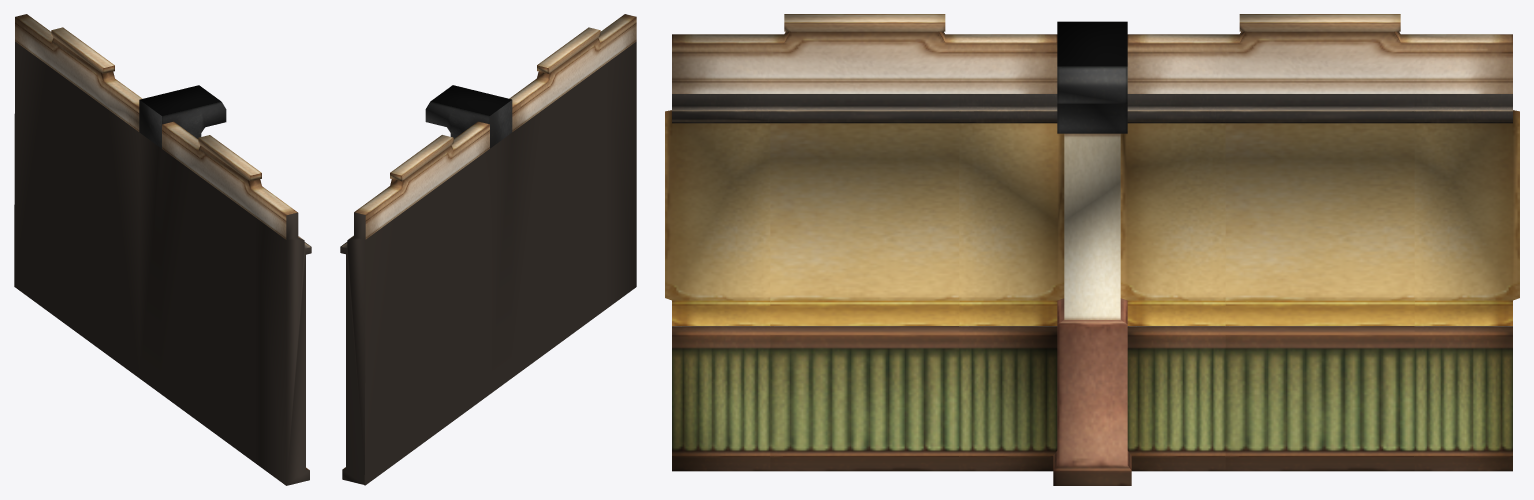
File: a_SWIwall02_15.glb
3 views of the same model, side by side, from view 1: azimuth 30°, elevation 25°; view 2: azimuth 150°, elevation 25°; view 3: azimuth 270°, elevation 25° (orthographic). The views are drawn at different scales.
Visible parts, largest first — view 1: a_SWIwall02_15; view 2: a_SWIwall02_15; view 3: a_SWIwall02_15.
Boxes of the visible parts, <box> form: a_SWIwall02_15: <box>14,14,311,485</box>; a_SWIwall02_15: <box>340,14,636,485</box>; a_SWIwall02_15: <box>665,14,1519,485</box>.
Size of the model in its own units: 0.8192 by 3.46 by 6.1.
Materials: 4 (4 with a texture image).
